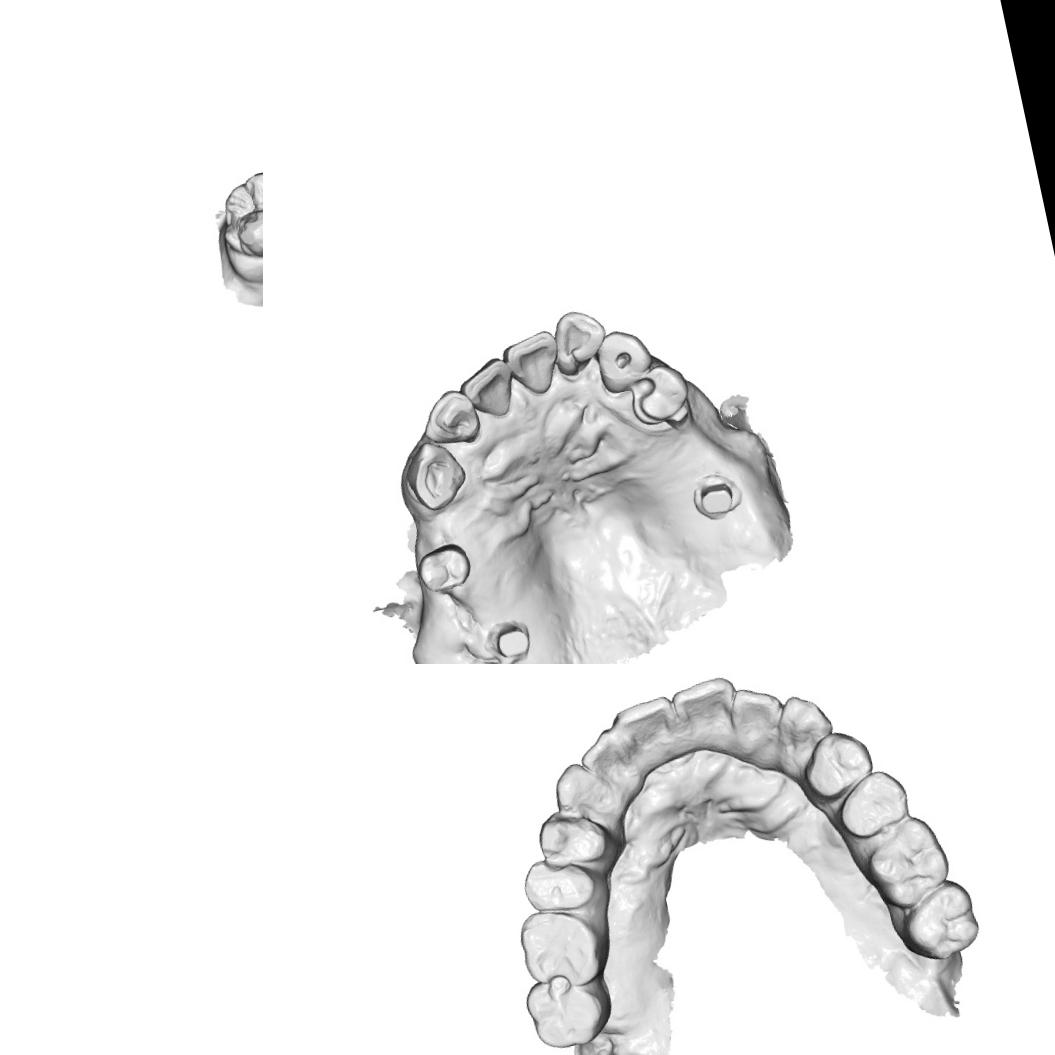abutment: (487, 616, 534, 664), (694, 475, 742, 522)
canine: (398, 435, 471, 517), (768, 688, 839, 769), (546, 752, 620, 825), (591, 324, 659, 398)
incisor: (668, 674, 749, 757), (608, 692, 683, 768), (571, 722, 641, 799), (722, 682, 792, 758), (499, 327, 568, 402), (546, 305, 614, 380), (454, 353, 520, 424), (416, 384, 484, 452)
molar: (853, 809, 959, 917), (510, 897, 622, 998), (890, 873, 986, 970), (520, 967, 619, 1055), (209, 166, 263, 269)
premolar: (515, 845, 614, 924), (529, 799, 622, 883), (826, 764, 918, 846), (794, 722, 882, 804), (623, 359, 696, 432), (411, 538, 476, 598)
